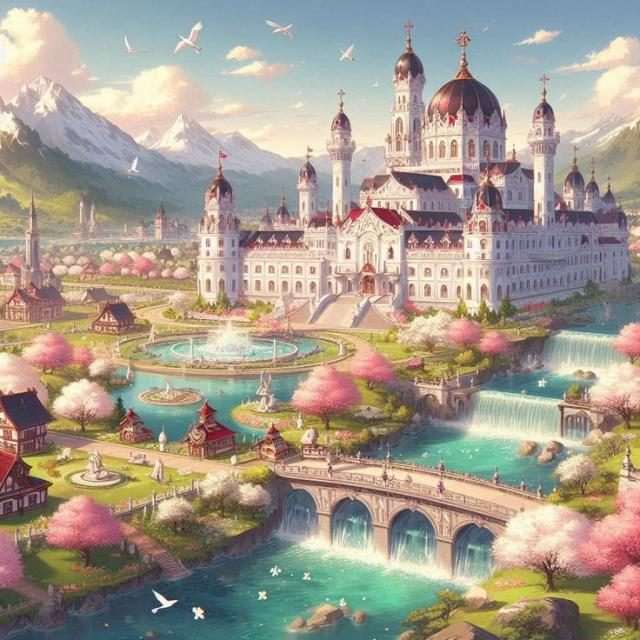castle: (179, 0, 636, 325)
